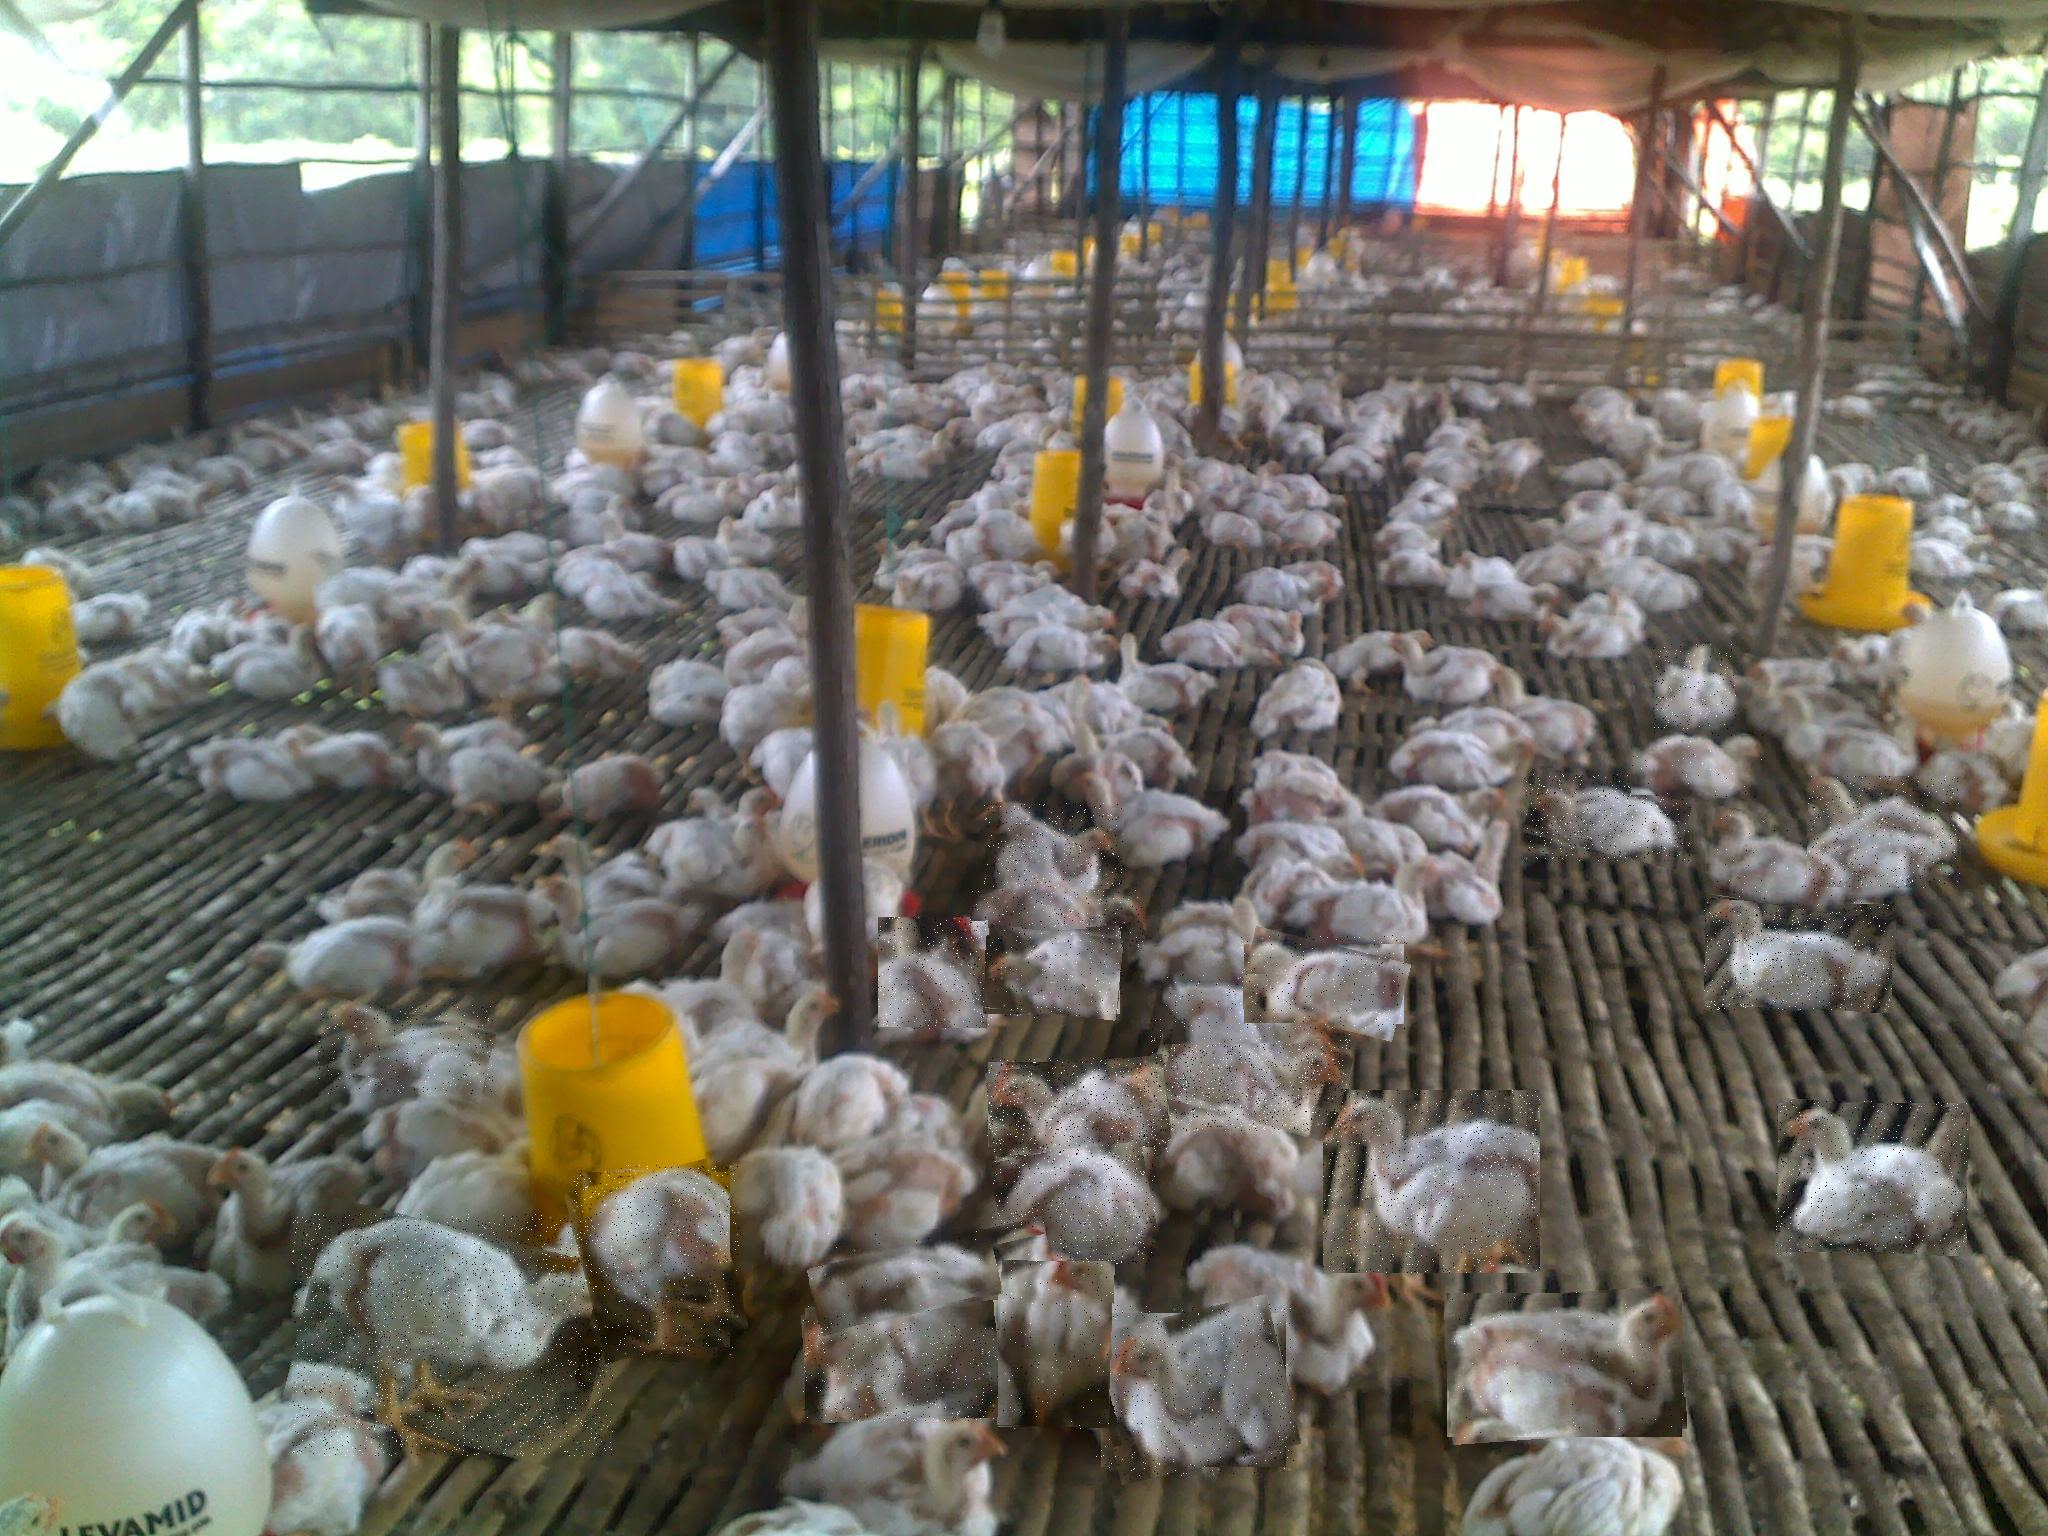chicken: (293, 1213, 614, 1457), (1324, 1091, 1540, 1273), (1447, 1289, 1685, 1441), (1095, 1304, 1293, 1476), (574, 1167, 739, 1355), (1775, 1100, 1969, 1254), (803, 1305, 1006, 1421), (810, 1229, 1056, 1323), (1151, 1018, 1350, 1133), (992, 1134, 1155, 1265), (1705, 900, 1895, 1010), (998, 1262, 1114, 1430), (1809, 776, 1961, 889), (987, 1058, 1169, 1152), (1240, 936, 1408, 1033), (319, 1005, 493, 1096), (1706, 812, 1854, 910), (1526, 774, 1690, 862), (984, 928, 1122, 1018), (879, 918, 990, 1029), (1163, 975, 1327, 1046), (984, 803, 1122, 887), (972, 891, 1145, 947), (1632, 733, 1766, 799), (1653, 644, 1737, 729)
